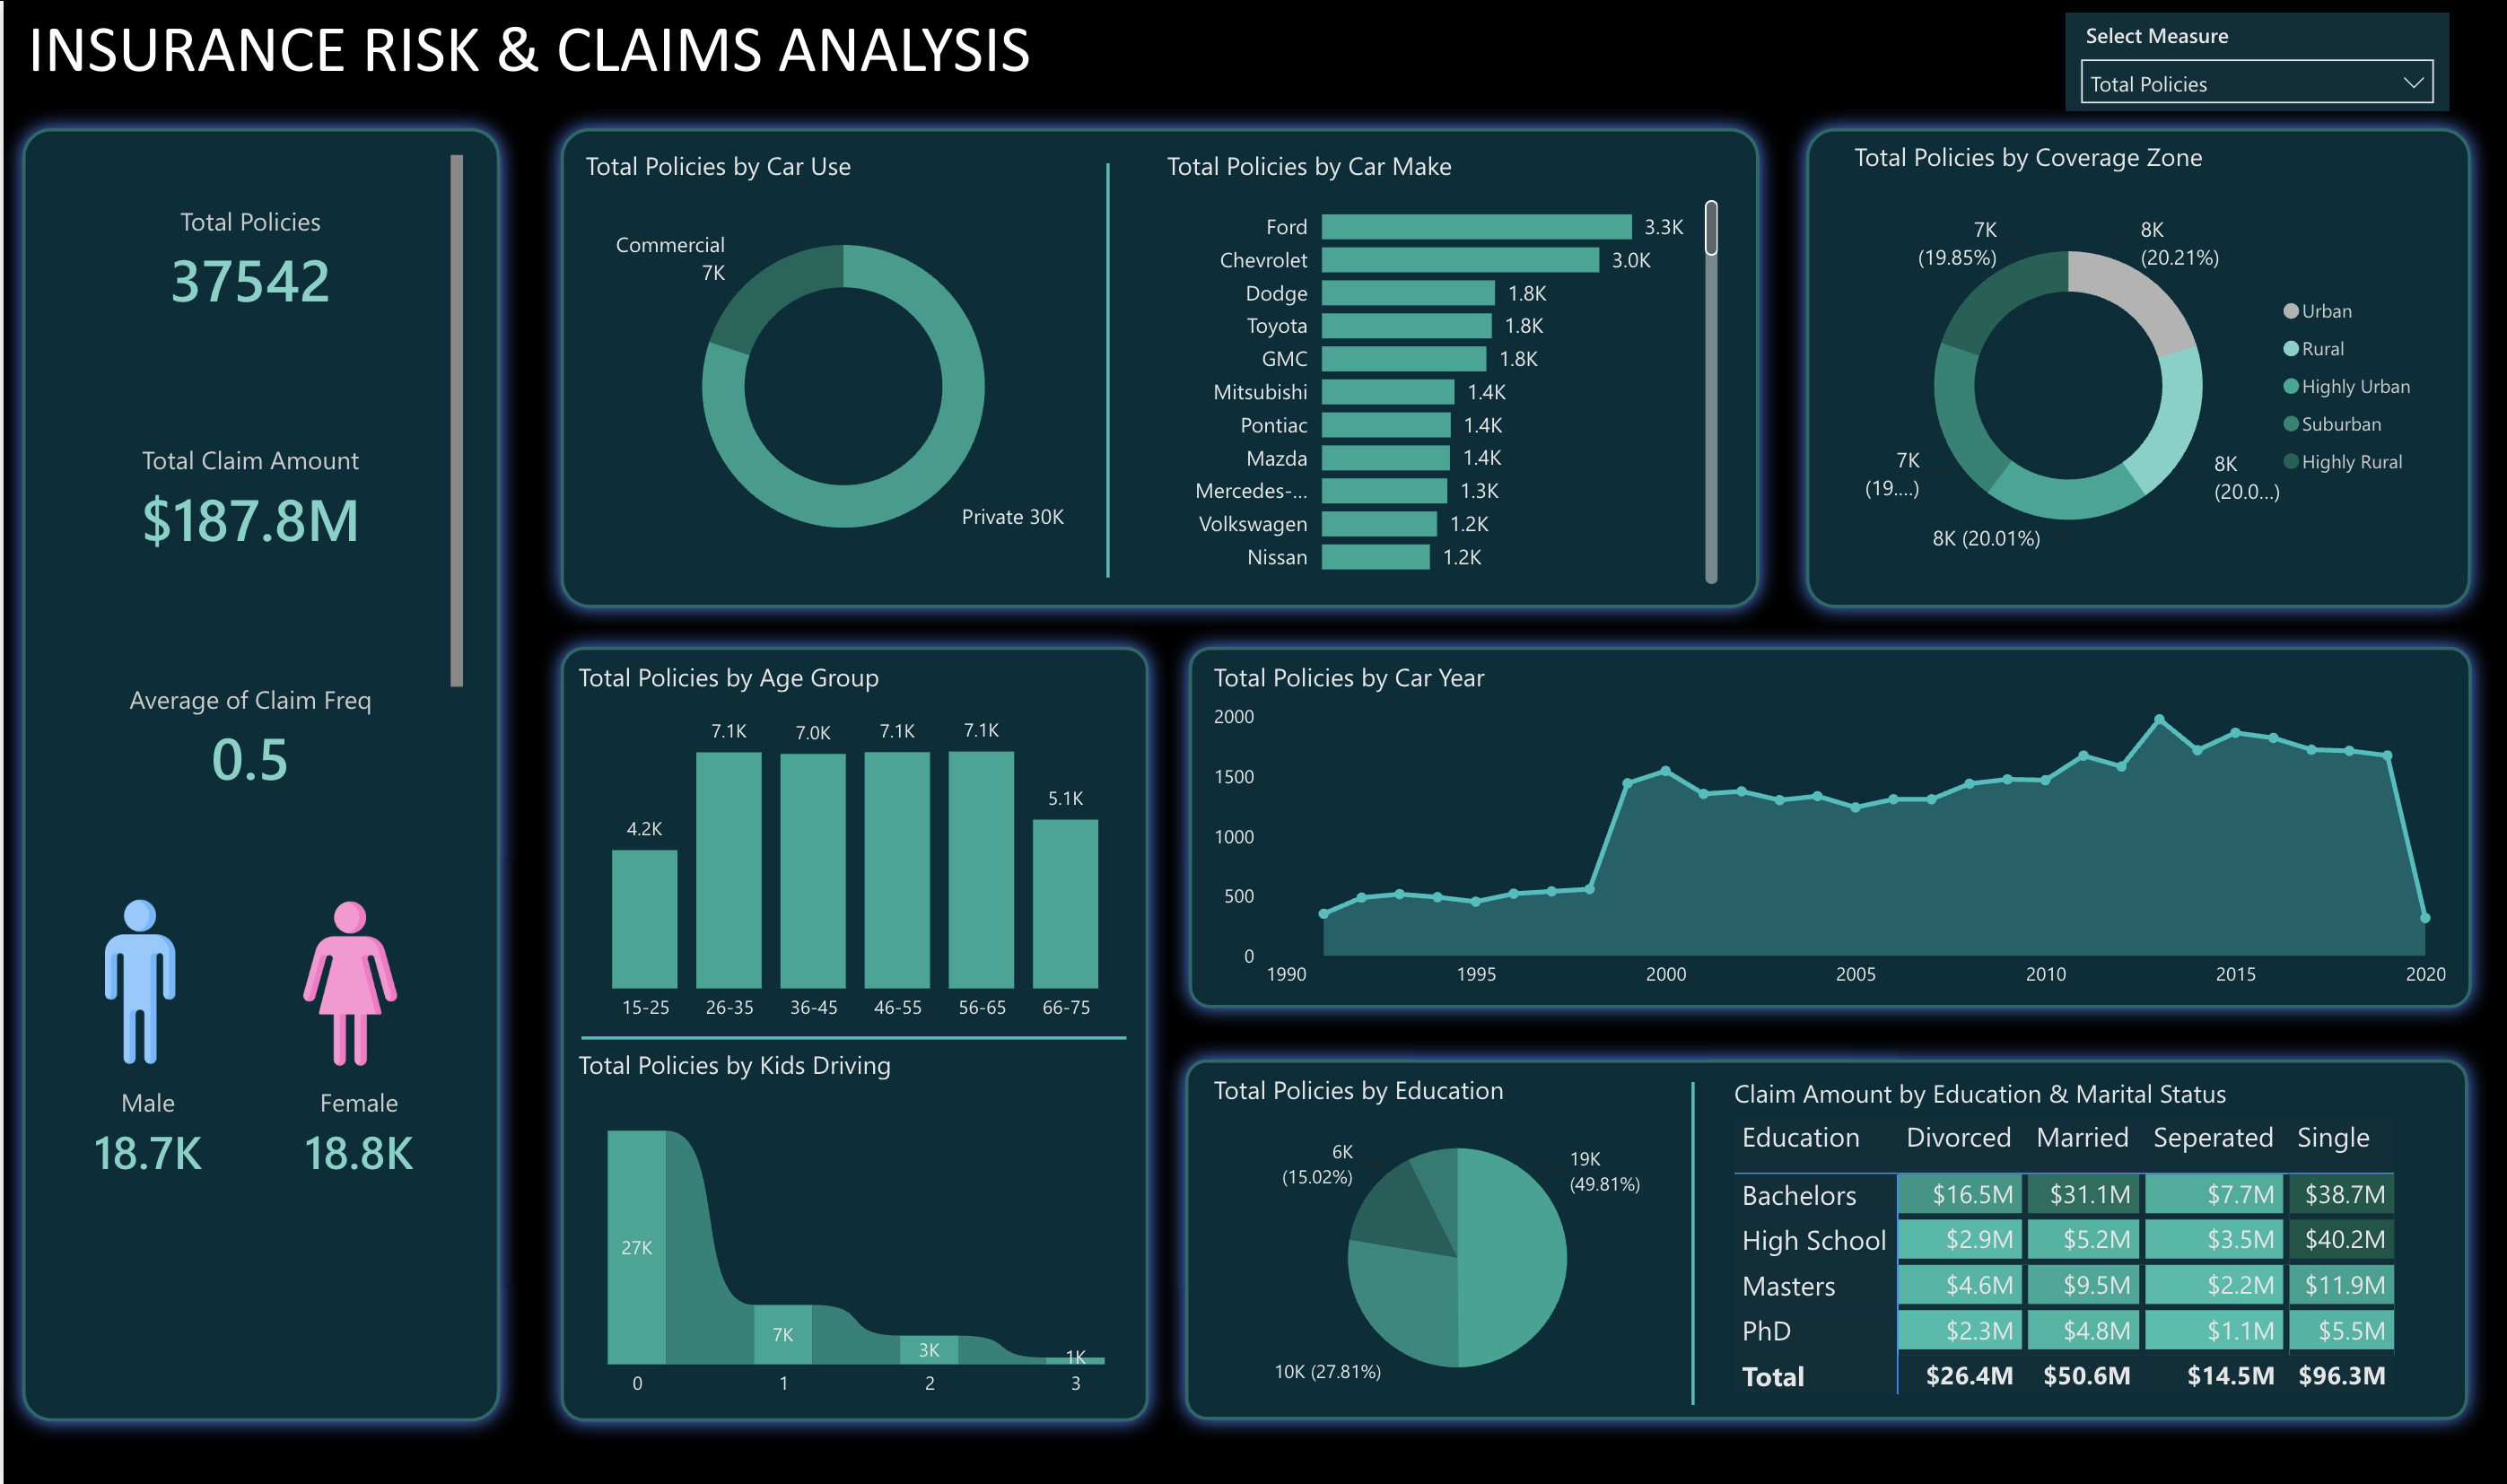

The dashboard page shown, as its layout file describes it:
{"tool":"powerbi","page":{"name":"Page 1","canvas":[1600,950],"ordinal":0},"visuals":[{"type":"textbox","box":[10.6,0,805.2,70.9],"z":0},{"type":"shape","box":[0,70.3,329.3,850.8],"z":1000},{"type":"cardVisual","fields":{"Data":["insurance_data_car.Total Policies","insurance_data_car.Total Claim Amount","Avg(insurance_data_car.Claim Freq)","insurance_data_car.Avg Claim Amount"]},"box":[29.9,94.3,269.4,460.9],"z":2000},{"type":"cardVisual","fields":{"Data":["insurance_data_car.Male Count","insurance_data_car.Female Count"]},"box":[29.9,669,260.4,110.7],"z":3000},{"type":"image","box":[29.9,570.2,115.2,115.2],"z":4000},{"type":"image","box":[164.6,571.7,115.2,115.2],"z":5000},{"type":"slicer","fields":{"Values":["Select Measure.Select Measure"]},"box":[1318.5,7.5,245.4,62.9],"z":6000},{"type":"shape","box":[344.2,70.3,790.2,330.7],"z":7000},{"type":"donutChart","fields":{"Y":["insurance_data_car.Total Policies"],"Category":["insurance_data_car.Car Use"]},"box":[366.7,94.3,339.7,284.3],"z":8000},{"type":"clusteredBarChart","fields":{"Y":["insurance_data_car.Total Policies"],"Category":["insurance_data_car.Car Make"]},"box":[739.3,94.3,362.2,284.3],"z":9000},{"type":"shape","box":[1140.4,70.3,449,330.7],"z":10000},{"type":"donutChart","fields":{"Y":["insurance_data_car.Total Policies"],"Category":["insurance_data_car.Coverage Zone"]},"box":[1177.8,88.3,375.6,294.8],"z":11000},{"type":"shape","box":[344.2,401.1,400,519.3],"z":12000},{"type":"clusteredColumnChart","fields":{"Y":["insurance_data_car.Total Policies"],"Category":["insurance_data_car.Age Group"]},"box":[362.2,420.5,365.2,240.9],"z":13000},{"type":"ribbonChart","fields":{"Y":["insurance_data_car.Total Policies"],"Category":["insurance_data_car.Kids Driving"]},"box":[362.2,669,365.2,233.5],"z":14000},{"type":"shape","box":[745.3,401.1,844,255],"z":15000},{"type":"areaChart","fields":{"Y":["insurance_data_car.Total Policies"],"Category":["insurance_data_car.Car Year"]},"box":[769.2,420.5,797.7,220],"z":16000},{"type":"shape","box":[743.8,666,844,254.4],"z":17000},{"type":"pieChart","fields":{"Y":["insurance_data_car.Total Policies"],"Category":["insurance_data_car.Education"]},"box":[769.2,685.4,321.8,217],"z":18000},{"type":"pivotTable","title":"Claim Amount by Education & Marital Status","fields":{"Rows":["insurance_data_car.Education"],"Columns":["insurance_data_car.Marital Status"],"Values":["insurance_data_car.Total Claim Amount"]},"box":[1101.5,686.9,465.4,215.5],"z":19000},{"type":"shape","box":[556.7,104.8,299.3,264.9],"z":20000},{"type":"shape","box":[930.8,691.4,299.3,206.5],"z":21000},{"type":"shape","box":[369.6,531.3,348.7,264.9],"z":22000}]}

Visuals, with their boxes in screenshot pixels (x1, y1, x2, y2), scaled from the page's 1600x950 canvas onto the 2507x1484 screenshot:
textbox: left=17, top=0, right=1279, bottom=110
shape: left=0, top=109, right=516, bottom=1439
cardVisual - insurance_data_car.Total Policies x insurance_data_car.Total Claim Amount: left=47, top=147, right=469, bottom=868
cardVisual - insurance_data_car.Male Count x insurance_data_car.Female Count: left=47, top=1045, right=455, bottom=1218
image: left=47, top=891, right=227, bottom=1070
image: left=258, top=893, right=439, bottom=1073
slicer - Select Measure.Select Measure: left=2066, top=12, right=2450, bottom=110
shape: left=539, top=109, right=1778, bottom=626
donutChart - insurance_data_car.Total Policies x insurance_data_car.Car Use: left=574, top=147, right=1107, bottom=591
clusteredBarChart - insurance_data_car.Total Policies x insurance_data_car.Car Make: left=1158, top=147, right=1725, bottom=591
shape: left=1786, top=109, right=2490, bottom=626
donutChart - insurance_data_car.Total Policies x insurance_data_car.Coverage Zone: left=1846, top=138, right=2434, bottom=598
shape: left=539, top=626, right=1166, bottom=1437
clusteredColumnChart - insurance_data_car.Total Policies x insurance_data_car.Age Group: left=567, top=657, right=1140, bottom=1034
ribbonChart - insurance_data_car.Total Policies x insurance_data_car.Kids Driving: left=567, top=1045, right=1140, bottom=1410
shape: left=1167, top=626, right=2490, bottom=1025
areaChart - insurance_data_car.Total Policies x insurance_data_car.Car Year: left=1205, top=657, right=2455, bottom=1000
shape: left=1166, top=1041, right=2488, bottom=1437
pieChart - insurance_data_car.Total Policies x insurance_data_car.Education: left=1205, top=1070, right=1709, bottom=1410
"Claim Amount by Education & Marital Status" pivotTable: left=1725, top=1073, right=2455, bottom=1410
shape: left=872, top=163, right=1341, bottom=578
shape: left=1458, top=1080, right=1927, bottom=1402
shape: left=579, top=830, right=1125, bottom=1244
